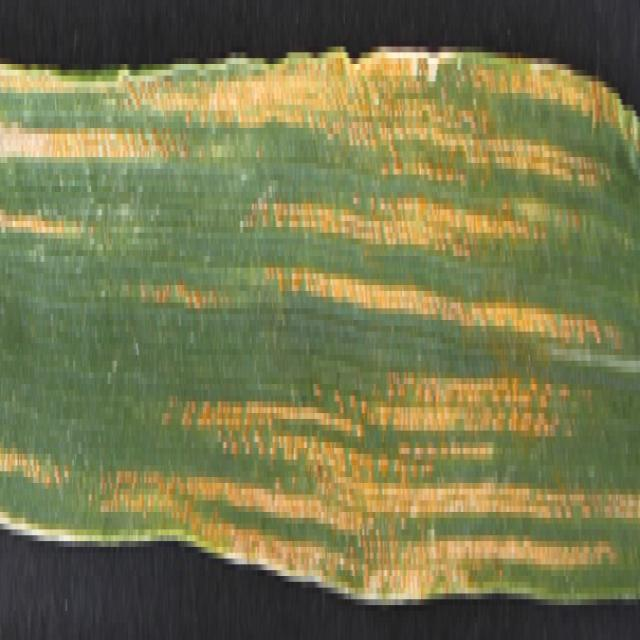leaf rust: (2, 70, 640, 605)
